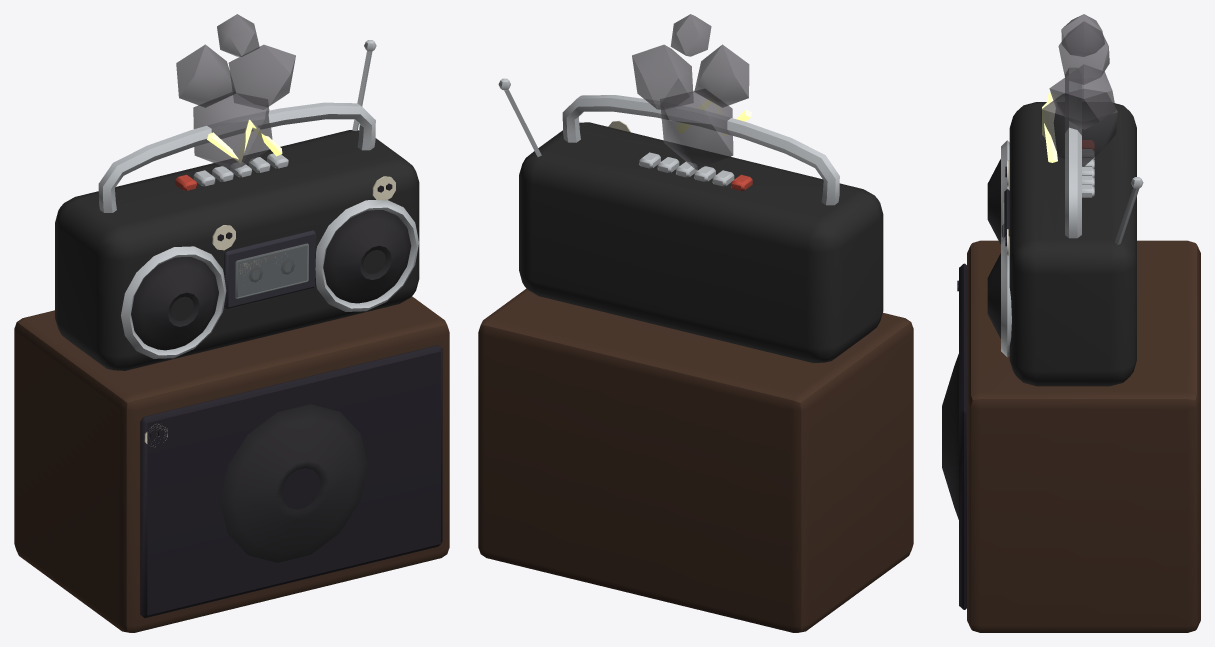
File: stereo_boombox.glb
The picture shows the model from 3 angles, left to right: view 1: azimuth 30°, elevation 25°; view 2: azimuth 150°, elevation 25°; view 3: azimuth 270°, elevation 25°; orthographic projection.
Visible parts, largest first — view 1: stereo_boombox, speaker, broken; view 2: stereo_boombox, broken; view 3: stereo_boombox, broken, speaker.
Boxes of the visible parts, x1,y1,x2,y2 form: stereo_boombox: (14, 40, 449, 632); speaker: (131, 210, 411, 562); broken: (176, 14, 295, 169); stereo_boombox: (478, 78, 913, 632); broken: (632, 14, 751, 169); stereo_boombox: (957, 68, 1200, 632); broken: (1039, 14, 1117, 166); speaker: (942, 159, 1000, 519).
Size of the model in its own units: 0.7304 by 1.13 by 0.487.
